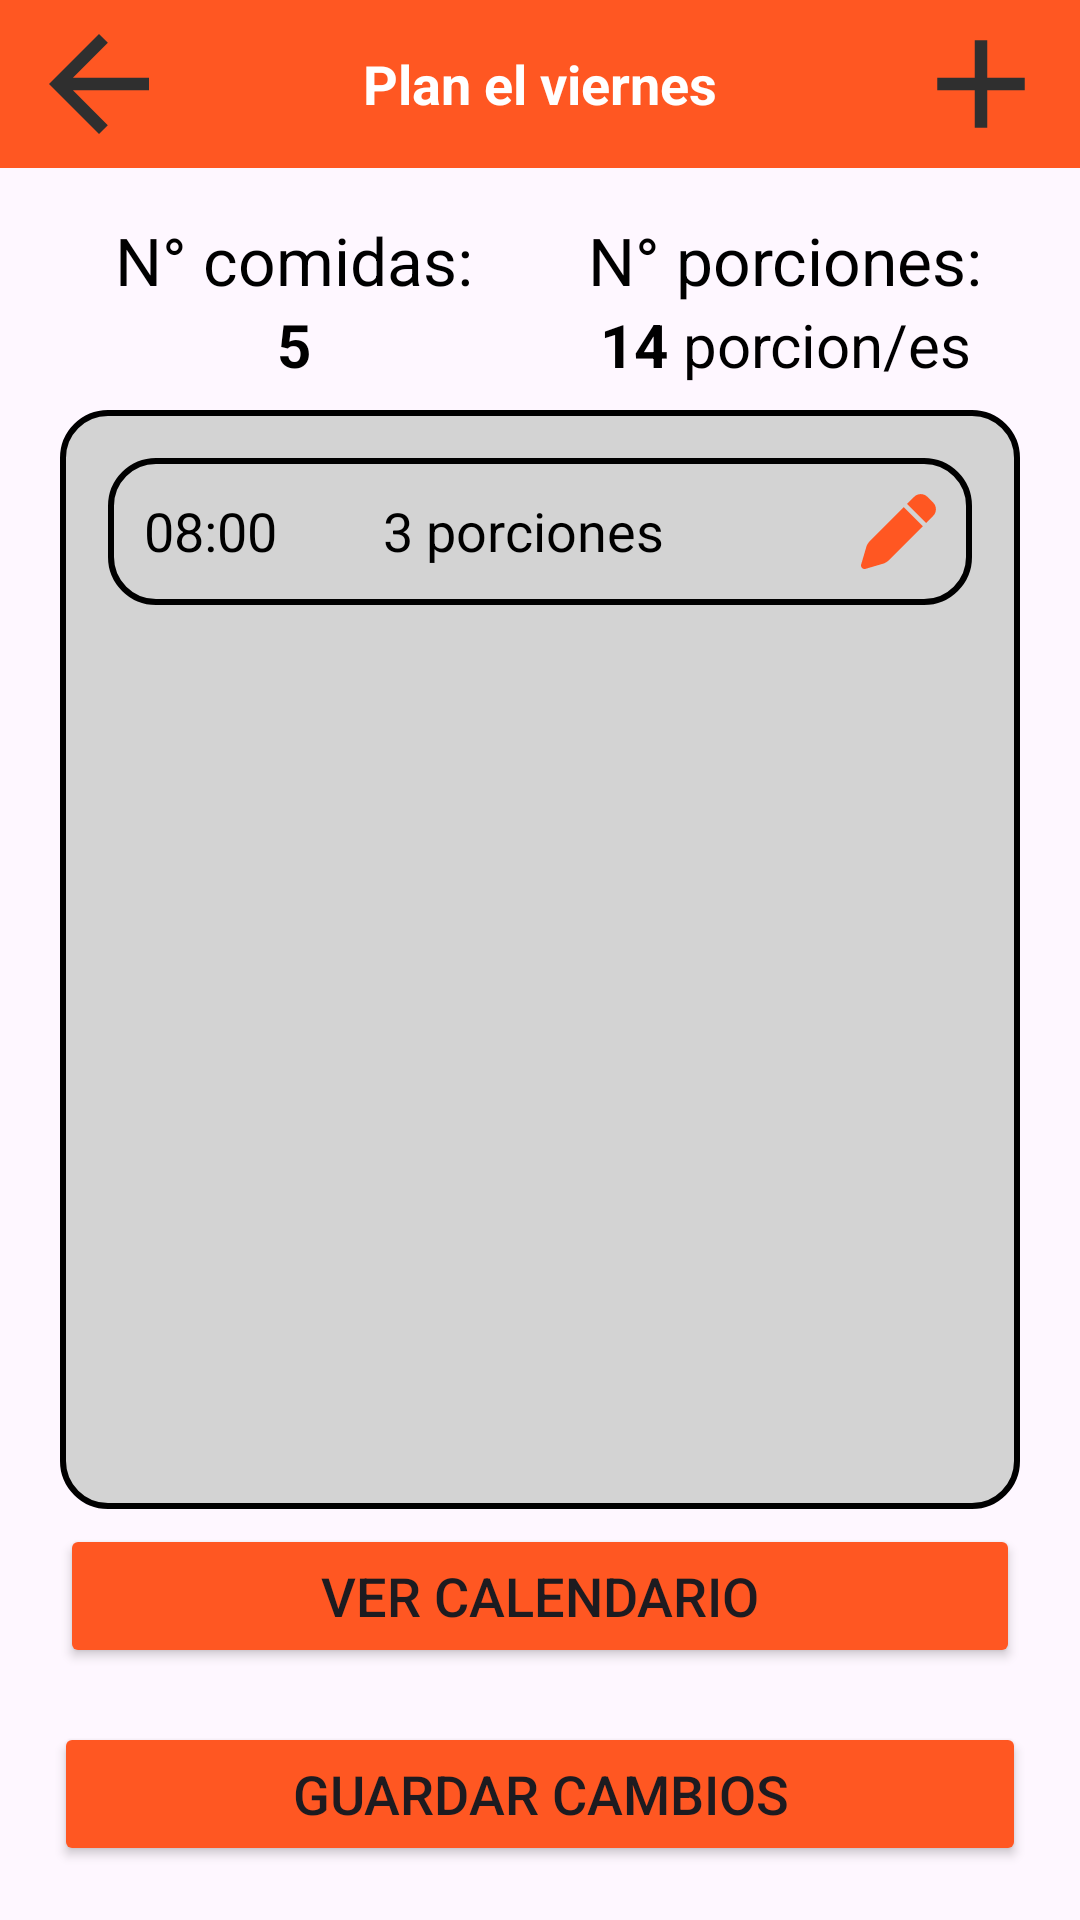

Locate icon controls on the screen. Image size 1080px x 1920px, boxes as (x1, y1, x2, y2).
add: (937, 40, 1025, 128)
back arrow: (49, 34, 149, 134)
edit: (861, 494, 936, 569)
